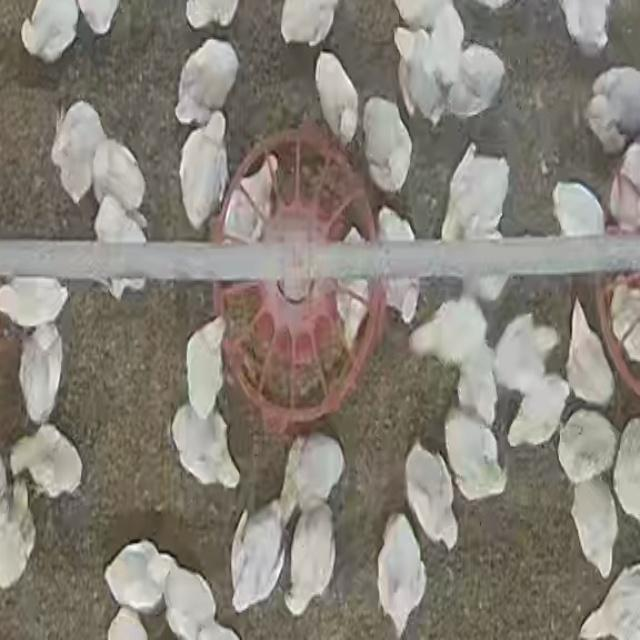chicken: (440, 148, 509, 242), (170, 35, 239, 125), (100, 534, 178, 612), (375, 515, 426, 633), (46, 98, 102, 201), (443, 410, 504, 504), (360, 94, 415, 198), (12, 424, 84, 502), (284, 506, 335, 615), (403, 442, 454, 550), (178, 118, 228, 228), (408, 296, 488, 364), (172, 406, 235, 492), (494, 311, 559, 390), (17, 322, 65, 428), (444, 42, 508, 120), (508, 372, 572, 450), (226, 151, 280, 239), (568, 477, 616, 574), (557, 408, 615, 482), (456, 356, 498, 434), (551, 180, 607, 238)
